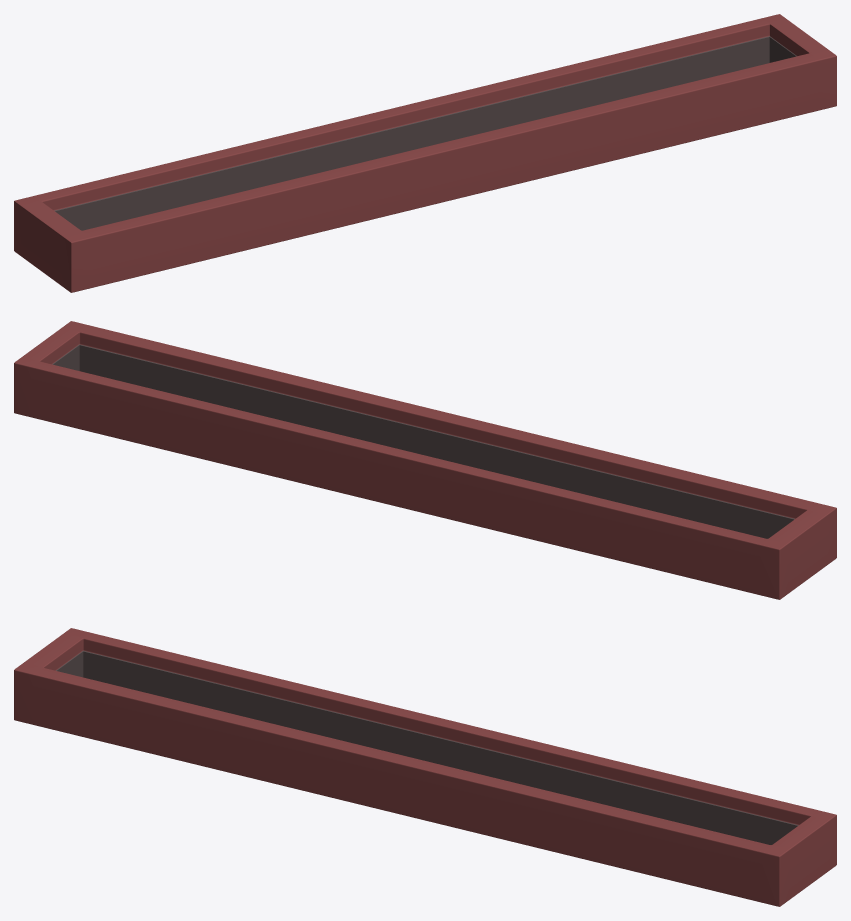
The model's file is LongVase.fbx.
3 views of the same model, one above another, from view 1: azimuth 30°, elevation 25°; view 2: azimuth 150°, elevation 25°; view 3: azimuth 330°, elevation 25° (orthographic).
Parts seen in each view (by area): view 1: LongVase; view 2: LongVase; view 3: LongVase.
Boxes of the visible parts, box(x1,y1,x2,y2) form: LongVase: box(14, 14, 836, 292); LongVase: box(14, 321, 836, 599); LongVase: box(14, 628, 836, 906).
Bounding box in the file's own units: 15.73 × 1 × 2.05.
